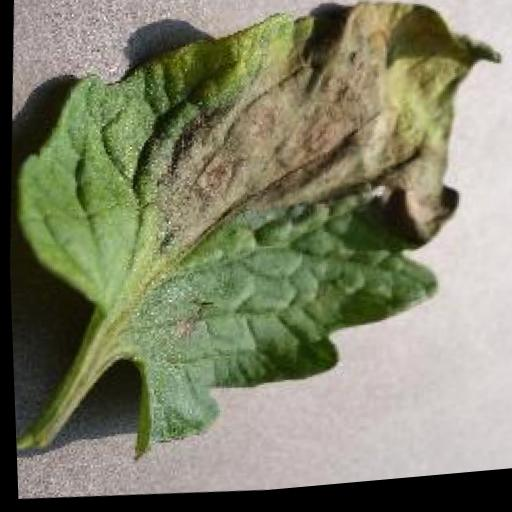Late Blight: (0, 0, 512, 493)
